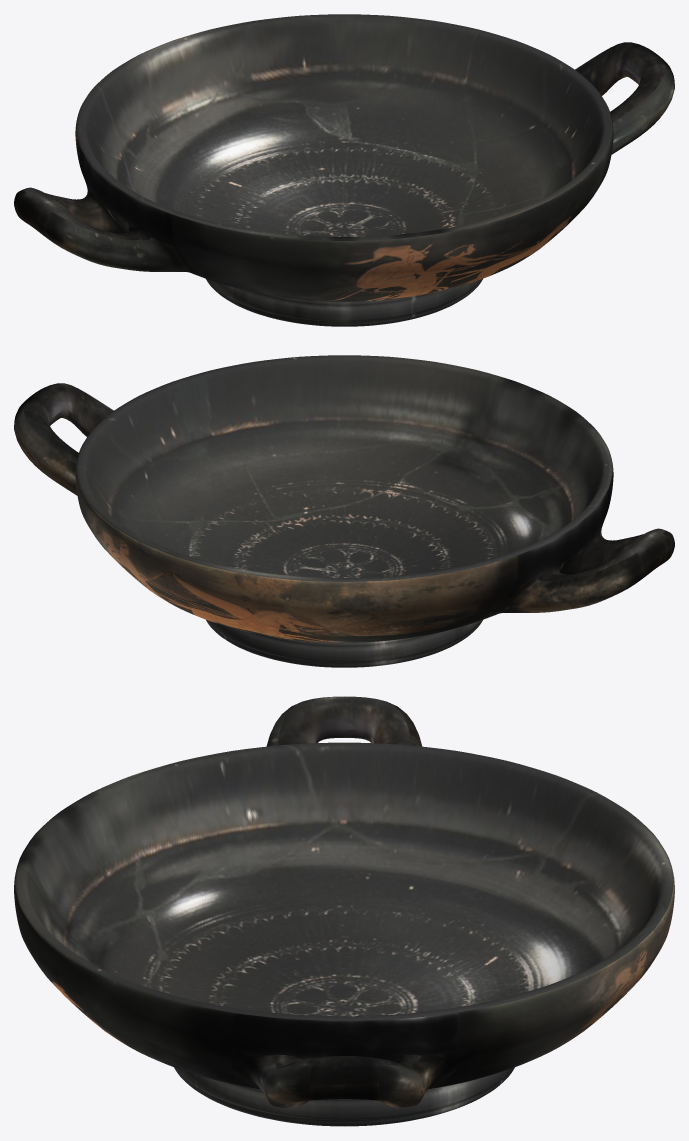
The model's file is bowl_egypt.fbx.
3 renders of one model, top to bottom at view 1: azimuth 30°, elevation 25°; view 2: azimuth 150°, elevation 25°; view 3: azimuth 270°, elevation 25°, orthographic. The views are drawn at different scales.
Visible parts, largest first — view 1: com sub_3; view 2: com sub_3; view 3: com sub_3.
Boxes of the visible parts, x1,y1,x2,y2 form: com sub_3: (14, 14, 674, 326); com sub_3: (14, 355, 674, 667); com sub_3: (14, 696, 674, 1126).
Size of the model in its own units: 45.36 by 10 by 33.56.
1 material, 1 textured.
